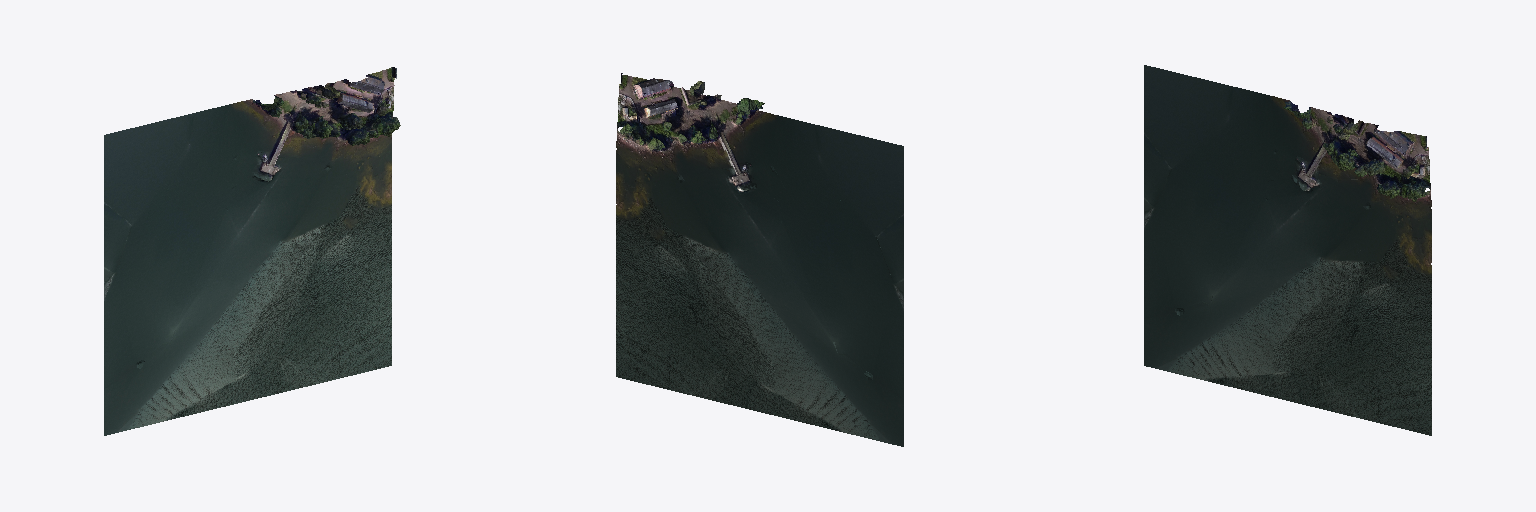
3 renders of one model, left to right at view 1: azimuth 30°, elevation 25°; view 2: azimuth 150°, elevation 25°; view 3: azimuth 330°, elevation 25°, orthographic.
Bounding box in the file's own units: 252 × 252 × 26.55.
2 materials, 1 textured.